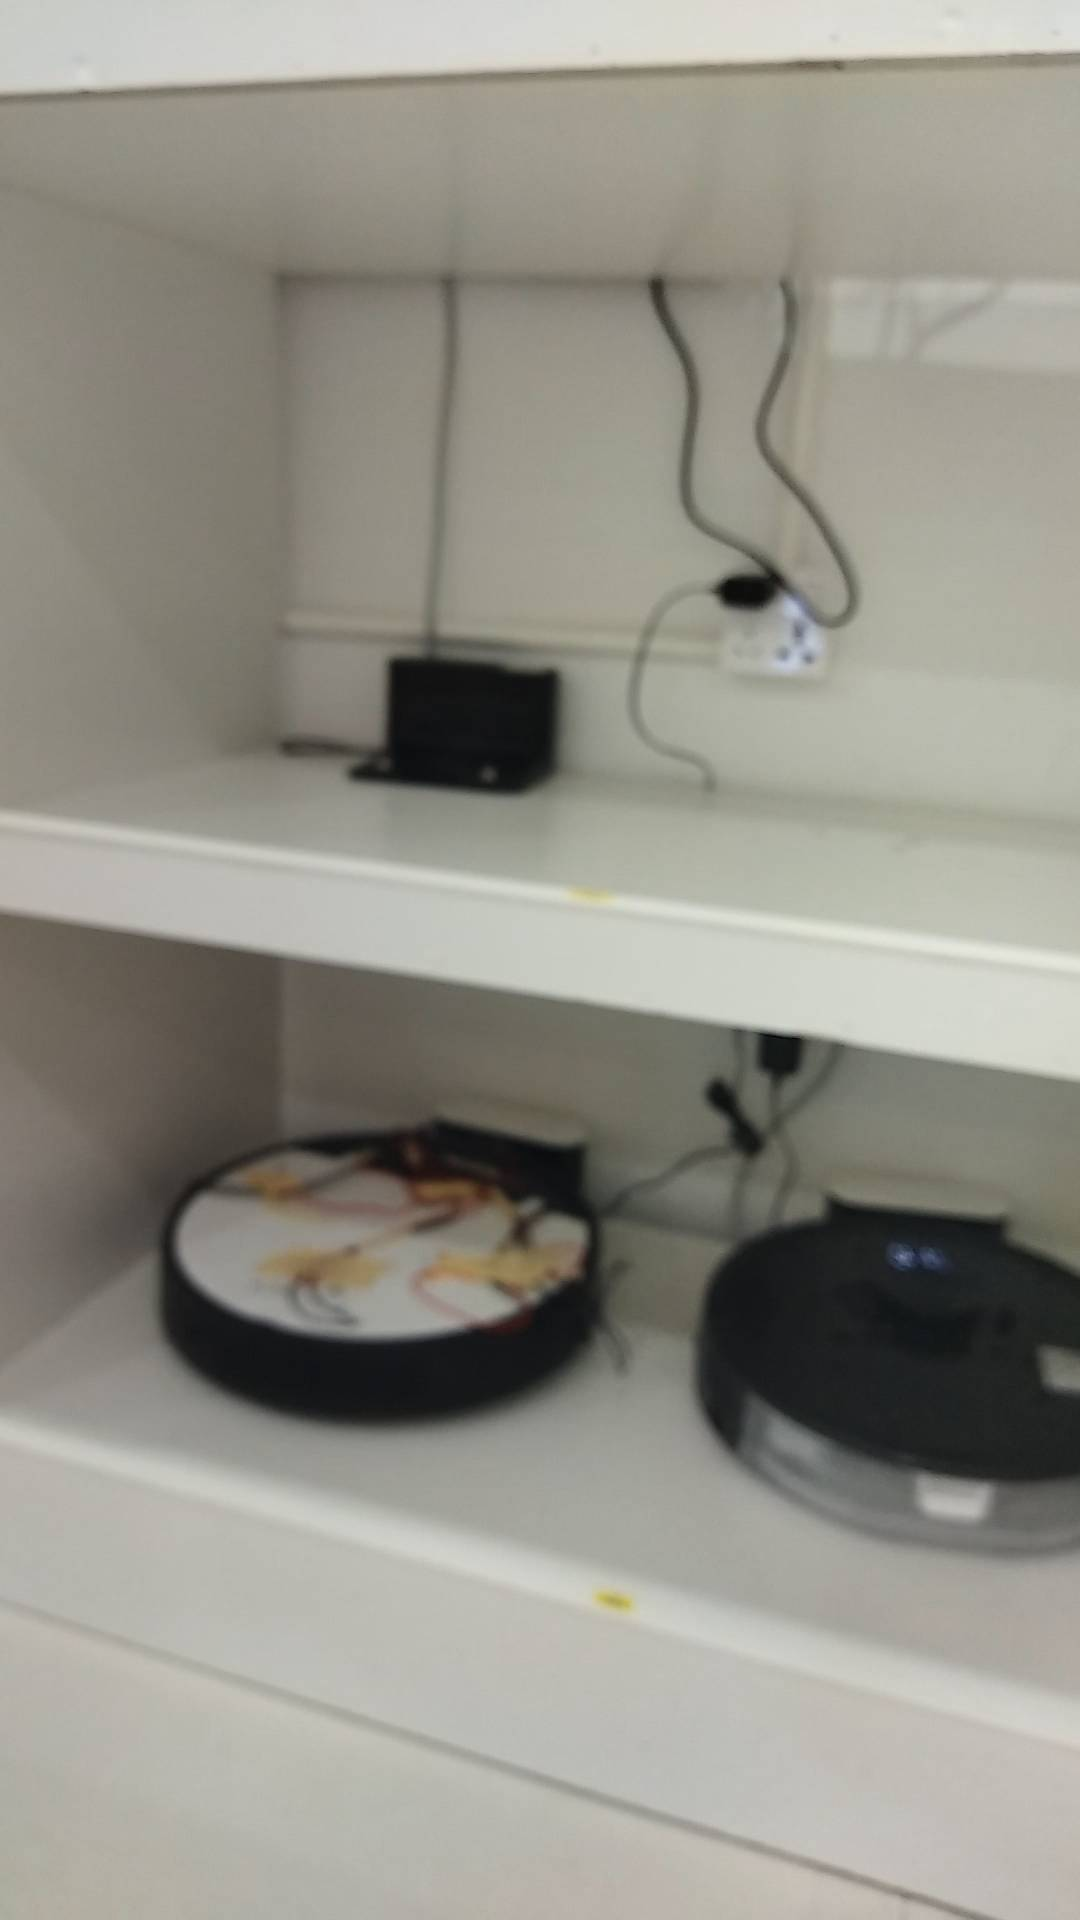recharge seat: (349, 649, 570, 793), (419, 1087, 593, 1188), (818, 1168, 1014, 1236)
